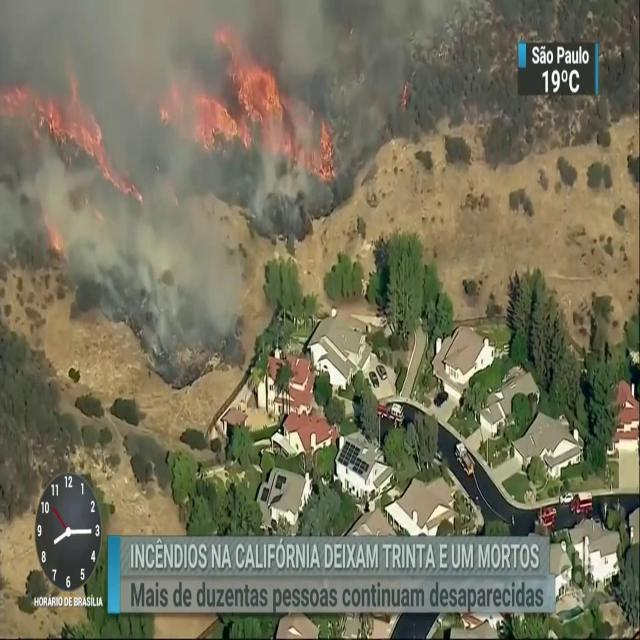Fire: (160, 28, 332, 180), (4, 87, 144, 202), (47, 230, 61, 250)
